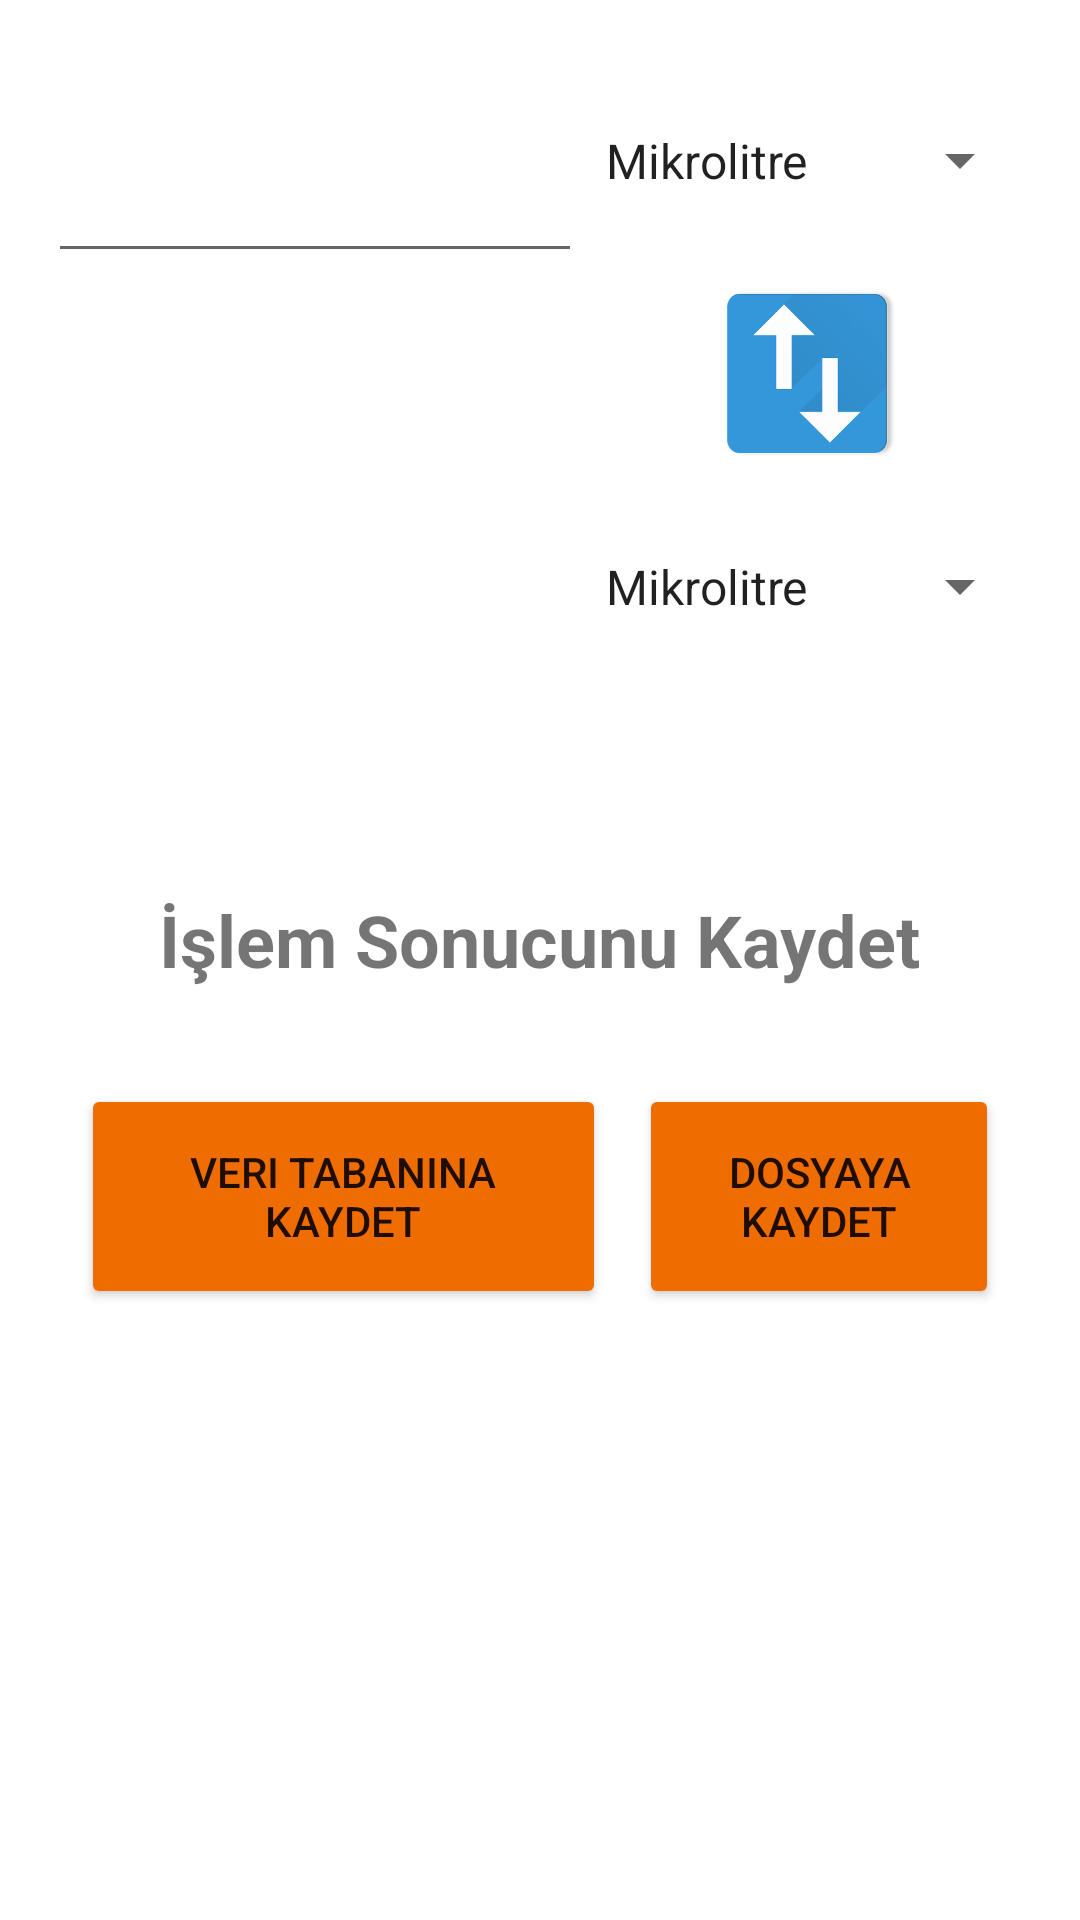

Locate icon controls on the screen. Image size 1080 × 1920, boxes as box=[x1, y1, x2, y2].
converter: box=[727, 294, 892, 453]
